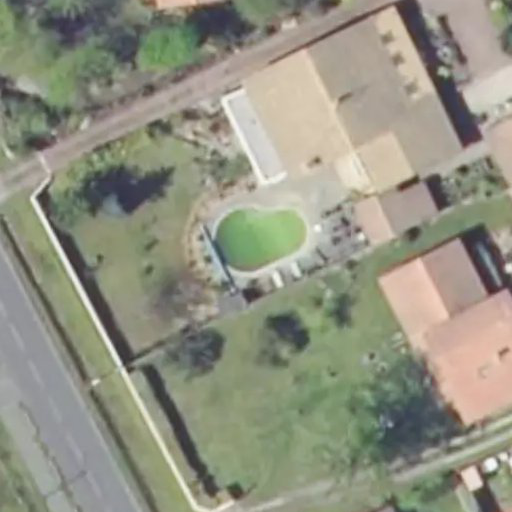pool: (212, 205, 308, 271)
